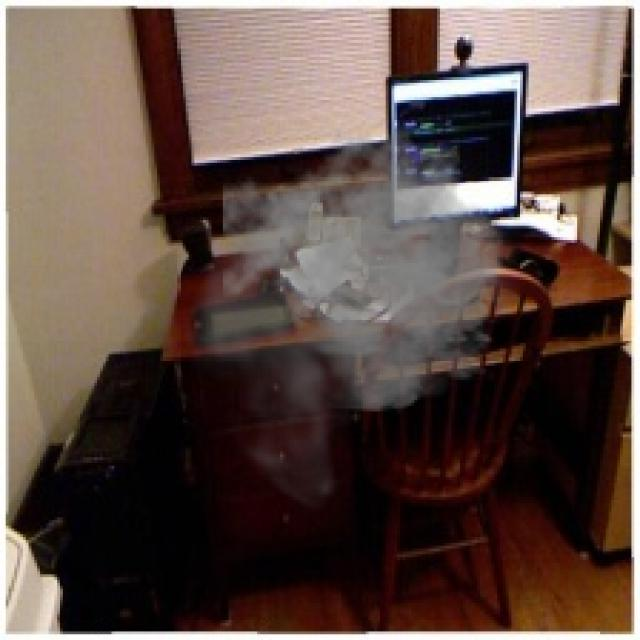smoke: (180, 123, 529, 514)
